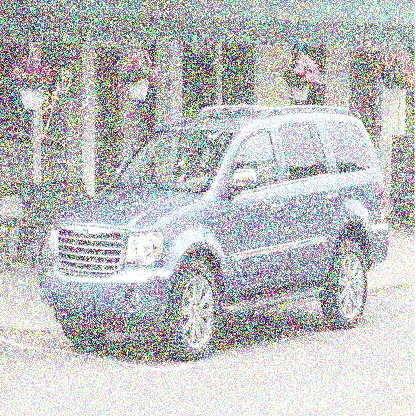Vehicle: (40, 104, 391, 374)
